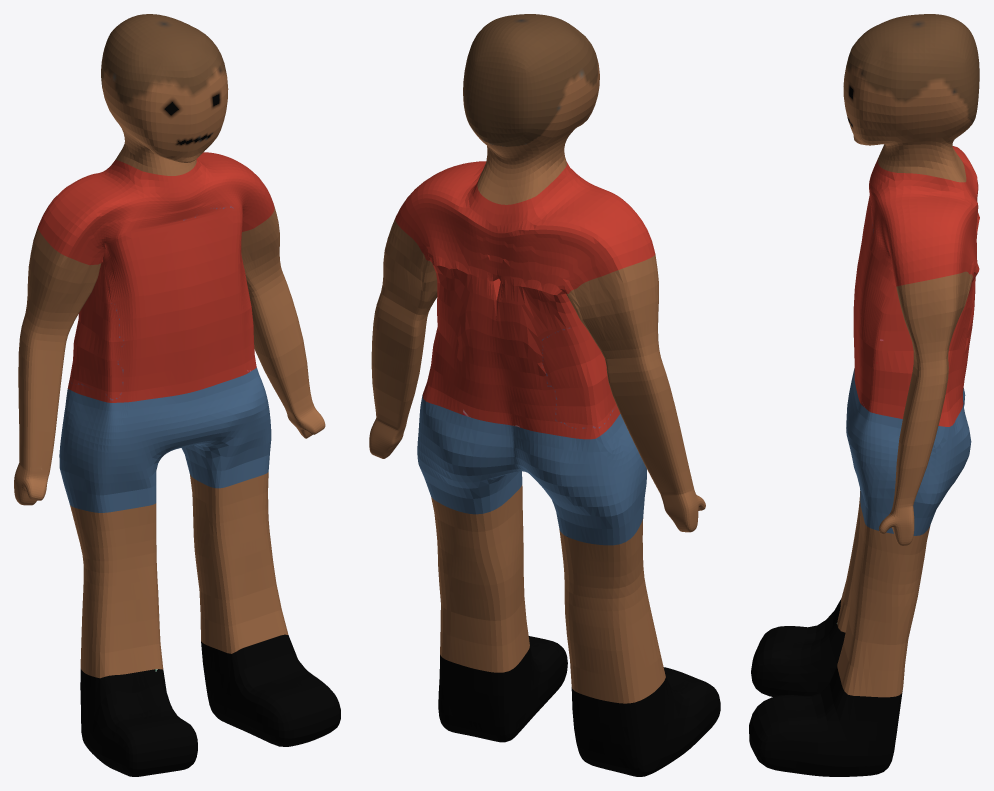
Rendered from Nino.obj.
3 views of the same model, side by side, from view 1: azimuth 30°, elevation 25°; view 2: azimuth 150°, elevation 25°; view 3: azimuth 270°, elevation 25° (orthographic). The views are drawn at different scales.
Visible parts, largest first — view 1: Nino; view 2: Nino; view 3: Nino.
Part boxes in pixels (left/top/right/bottom): Nino: left=14, top=14, right=340, bottom=776; Nino: left=369, top=14, right=720, bottom=776; Nino: left=749, top=14, right=979, bottom=776.
Bounding box in the file's own units: 0.4729 × 1.05 × 0.3094.
Materials: 1 (1 with a texture image).
